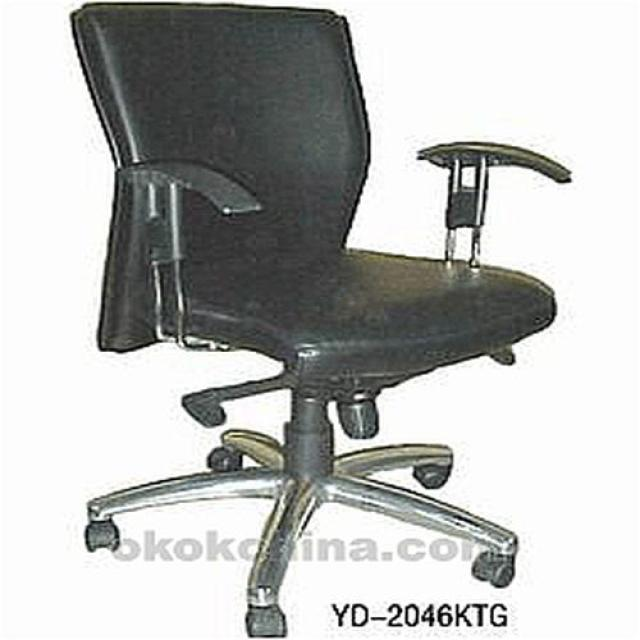swivelchair: (69, 3, 573, 640)
